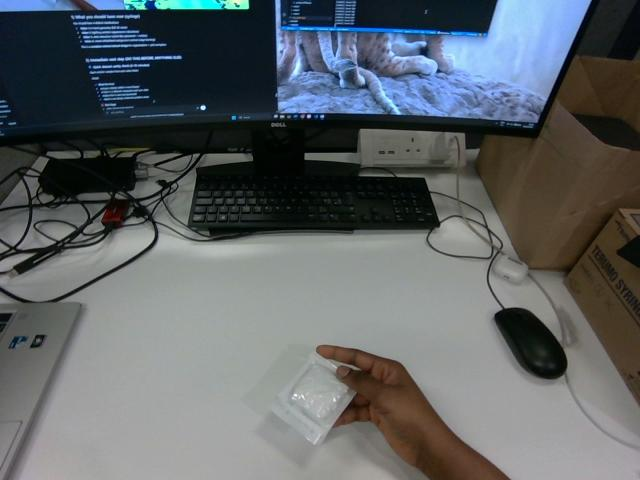gauze: (271, 352, 355, 444)
